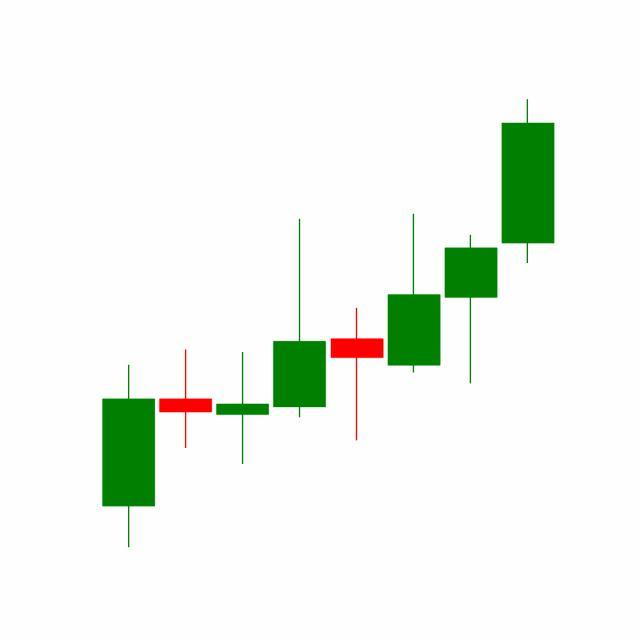Three Outside Up-Down: (328, 211, 500, 444)
